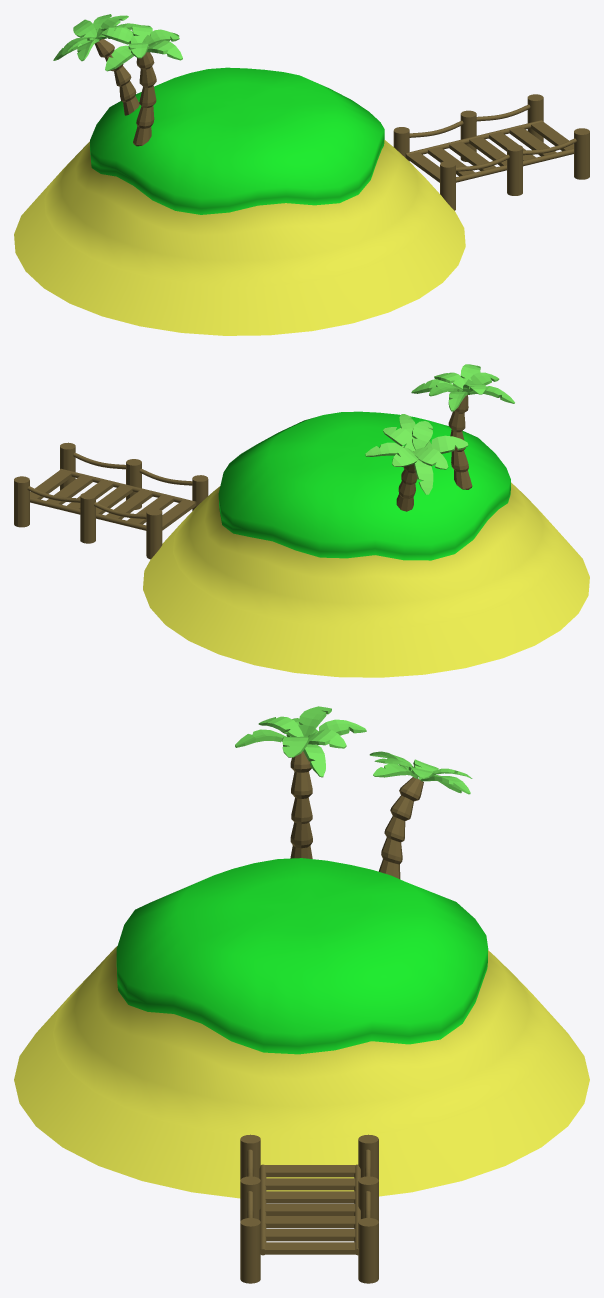
The model's file is island.fbx.
3 renders of one model, top to bottom at view 1: azimuth 30°, elevation 25°; view 2: azimuth 150°, elevation 25°; view 3: azimuth 270°, elevation 25°, orthographic. The views are drawn at different scales.
Parts seen in each view (by area): view 1: Island, platform, Palm tree, Palm tree.001; view 2: Island, platform, Palm tree.001, Palm tree; view 3: Island, platform, Palm tree, Palm tree.001.
Boxes of the visible parts, <box> form: Island: <box>14,67,465,335</box>; platform: <box>393,94,589,210</box>; Palm tree: <box>101,25,182,146</box>; Palm tree.001: <box>53,14,140,115</box>; Island: <box>143,411,589,677</box>; platform: <box>14,442,208,559</box>; Palm tree.001: <box>365,414,468,511</box>; Palm tree: <box>411,364,514,489</box>; Island: <box>14,858,589,1198</box>; platform: <box>240,1134,378,1283</box>; Palm tree: <box>235,706,366,858</box>; Palm tree.001: <box>369,751,472,879</box>.
Bounding box in the file's own units: 1521 × 647 × 1136.
